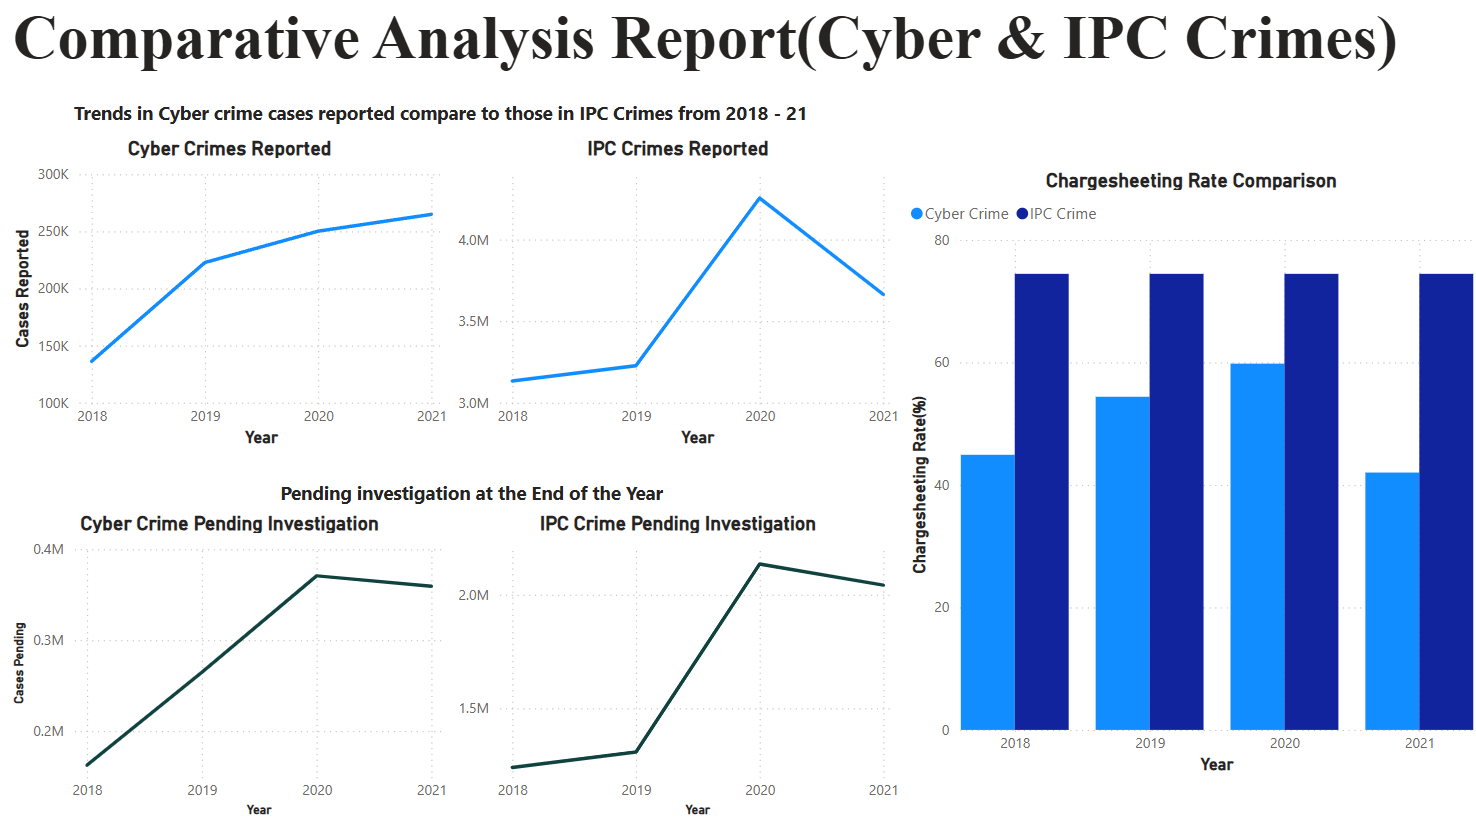

The dashboard page shown, as its layout file describes it:
{"tool":"powerbi","page":{"name":"Comparative Analysis","canvas":[1280,720],"ordinal":5},"visuals":[{"type":"textbox","box":[10,0,1270,76],"z":0},{"type":"lineChart","title":"IPC Crimes Reported","fields":{"Y":["Sum(IPCmerged_df.Cases Reported during the year)"],"Category":["IPCmerged_df.Year"]},"box":[394,122,390,273],"z":1000},{"type":"lineChart","title":"IPC Crime Pending Investigation","fields":{"Y":["Sum(IPCmerged_df.Cases Pending Investigation at End of the Year)"],"Category":["IPCmerged_df.Year"]},"box":[394,445,390,268],"z":2000},{"type":"textbox","box":[10,85,748,37],"z":3000},{"type":"textbox","box":[163,413,496,32],"z":4000},{"type":"lineChart","title":"Cyber Crimes Reported","fields":{"Category":["FinalCyberCrime2018_21.year"],"Y":["Sum(FinalCyberCrime2018_21.Cases Reported during the year)"]},"box":[10,122,384,273],"z":5000},{"type":"lineChart","title":"Cyber Crime Pending Investigation","fields":{"Y":["Sum(FinalCyberCrime2018_21.Cases Pending Investigation at End of the Year)"],"Category":["FinalCyberCrime2018_21.year"]},"box":[10,445,384,268],"z":6000},{"type":"clusteredColumnChart","title":"Chargesheeting Rate Comparison","fields":{"Y":["Avg(FinalCyberCrime2018_21.Chargesheeting Rate *100)","Avg(IPCmerged_df.Chargesheeting Rate *100)"],"Category":["FinalCyberCrime2018_21.year"]},"box":[784,149,496,528],"z":7000}]}

Visuals, with their boxes in screenshot pixels (x1, y1, x2, y2), scaled from the page's 1280x720 canvas onto the 1476x822 screenshot:
textbox: (x1=12, y1=0, x2=1475, y2=87)
"IPC Crimes Reported" lineChart: (x1=454, y1=139, x2=904, y2=451)
"IPC Crime Pending Investigation" lineChart: (x1=454, y1=508, x2=904, y2=814)
textbox: (x1=12, y1=97, x2=874, y2=139)
textbox: (x1=188, y1=472, x2=760, y2=508)
"Cyber Crimes Reported" lineChart: (x1=12, y1=139, x2=454, y2=451)
"Cyber Crime Pending Investigation" lineChart: (x1=12, y1=508, x2=454, y2=814)
"Chargesheeting Rate Comparison" clusteredColumnChart: (x1=904, y1=170, x2=1475, y2=773)
